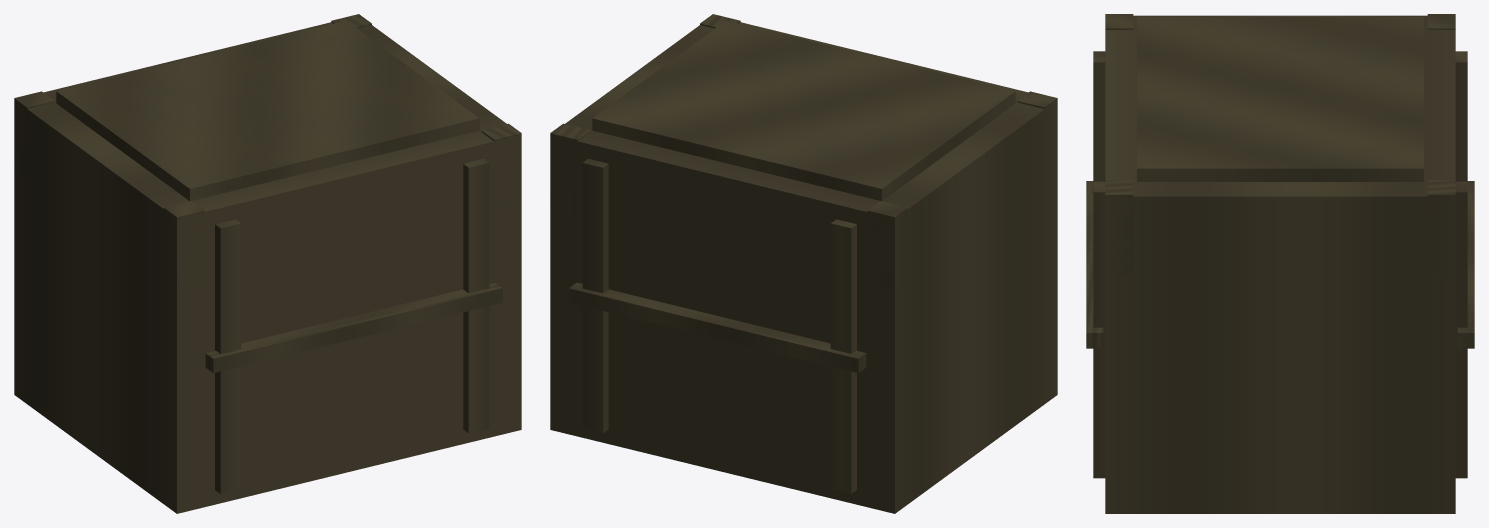
File: prop_camouflage_crate_a.glb
3 views of the same model, side by side, from view 1: azimuth 30°, elevation 25°; view 2: azimuth 150°, elevation 25°; view 3: azimuth 270°, elevation 25° (orthographic). The views are drawn at different scales.
Parts seen in each view (by area): view 1: prop_camouflage_crate_a; view 2: prop_camouflage_crate_a; view 3: prop_camouflage_crate_a.
Boxes of the visible parts, x1,y1,x2,y2 form: prop_camouflage_crate_a: (14, 14, 521, 513); prop_camouflage_crate_a: (550, 14, 1057, 513); prop_camouflage_crate_a: (1086, 14, 1474, 513).
Bounding box in the file's own units: 0.88 × 0.75 × 0.7982.
Materials: 1 (1 with a texture image).
